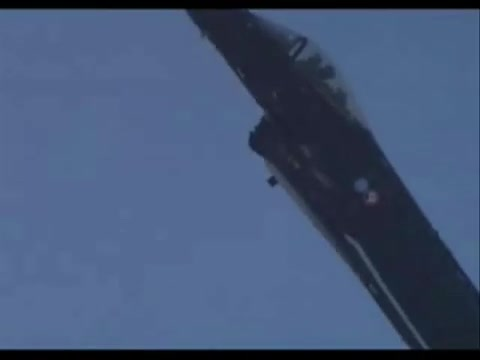aeroplane: (187, 11, 480, 351)
